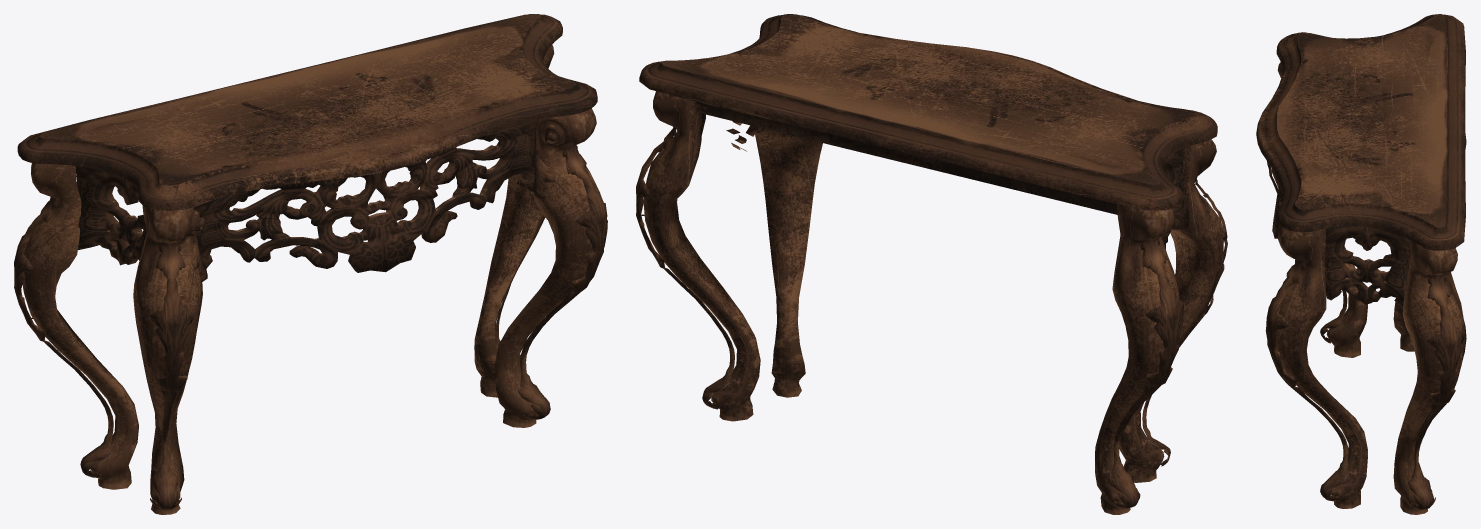
The model's file is console_table_walnut.glb.
The picture shows the model from 3 angles, left to right: view 1: azimuth 30°, elevation 25°; view 2: azimuth 150°, elevation 25°; view 3: azimuth 270°, elevation 25°; orthographic projection. The views are drawn at different scales.
Visible parts, largest first — view 1: ConsoleTable_Walnut; view 2: ConsoleTable_Walnut; view 3: ConsoleTable_Walnut.
Boxes of the visible parts, box(x1,y1,x2,y2) form: ConsoleTable_Walnut: box(14, 14, 607, 514); ConsoleTable_Walnut: box(636, 14, 1227, 514); ConsoleTable_Walnut: box(1256, 14, 1466, 514).
Bounding box in the file's own units: 1.54 × 0.9491 × 0.5893.
1 material, 1 textured.
